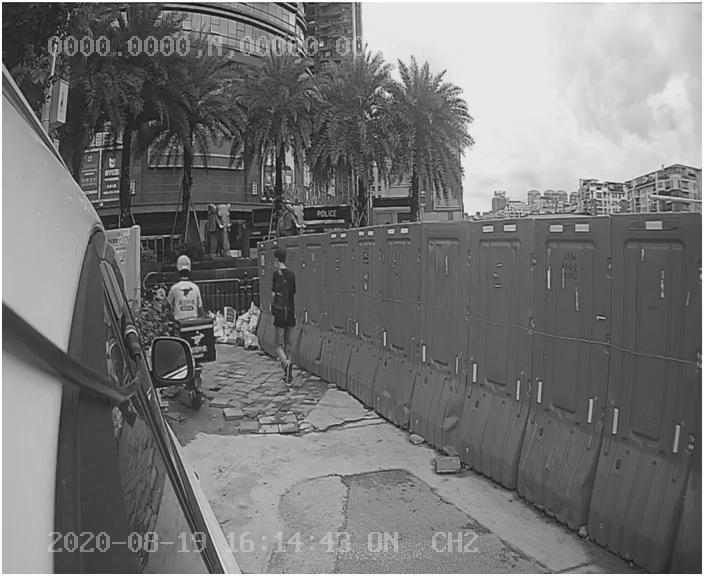person: (260, 246, 308, 387)
